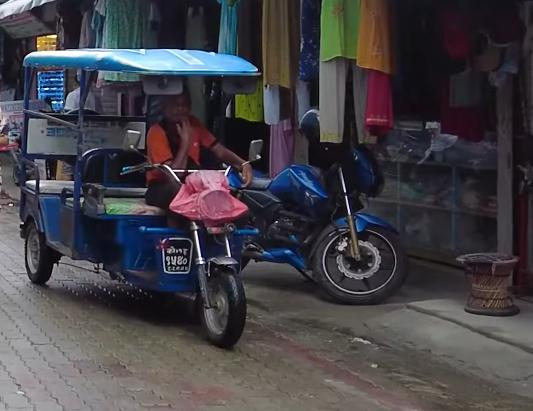bike: (221, 131, 408, 306)
e-rickshaw: (15, 44, 270, 351)
